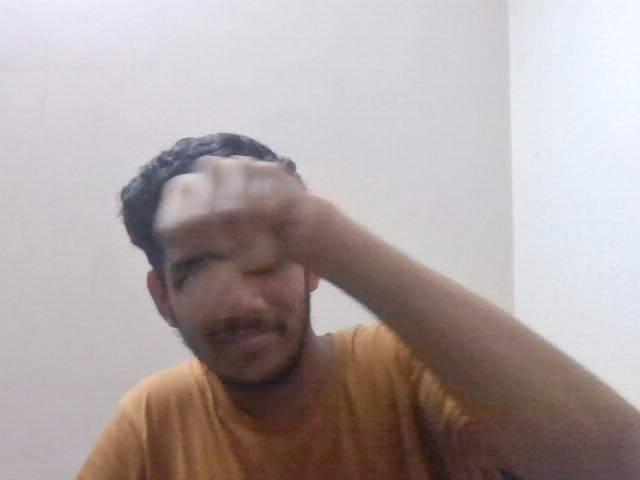yes: (145, 151, 328, 333)
